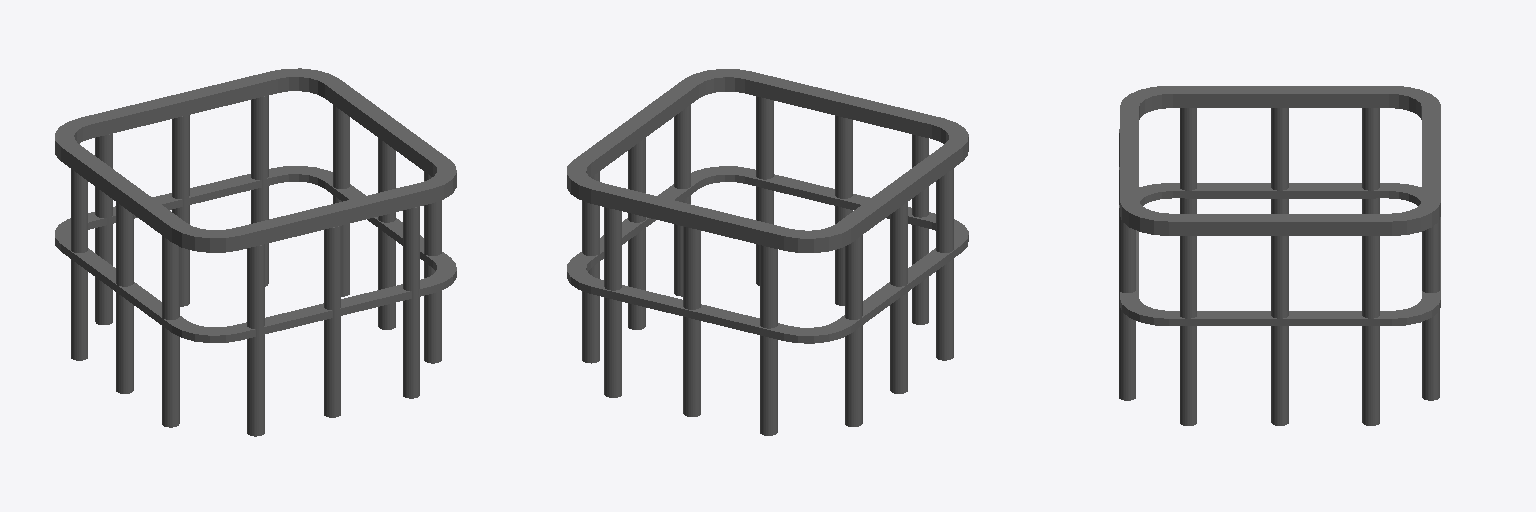
Rendered from jail.obj.
The picture shows the model from 3 angles: view 1: azimuth 30°, elevation 25°; view 2: azimuth 150°, elevation 25°; view 3: azimuth 270°, elevation 25°; orthographic projection.
Visible parts, largest first — view 1: jail_Torus.005; view 2: jail_Torus.005; view 3: jail_Torus.005.
Boxes of the visible parts, x1=… form: jail_Torus.005: x1=55, y1=68, x2=456, y2=436; jail_Torus.005: x1=567, y1=69, x2=968, y2=435; jail_Torus.005: x1=1119, y1=86, x2=1440, y2=425.
Size of the model in its own units: 0.78 by 0.5479 by 0.7827.